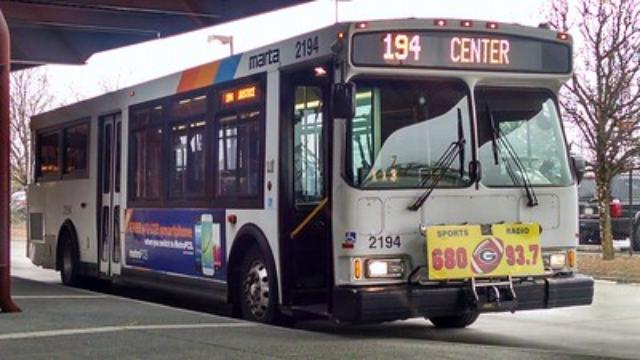bus: (26, 16, 594, 333)
